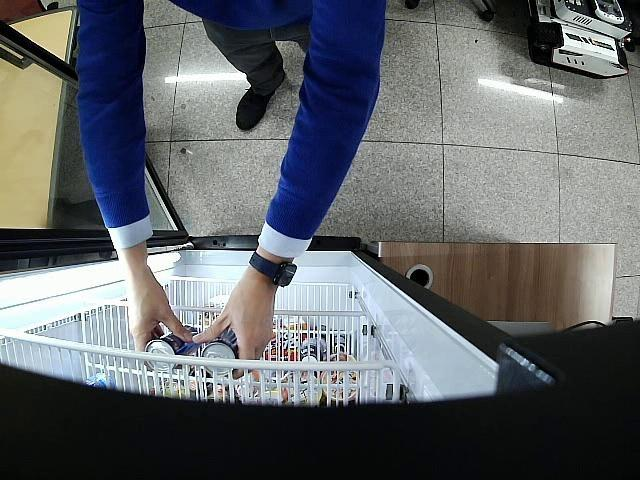16_hot6: (144, 326, 202, 372), (202, 328, 240, 376)
